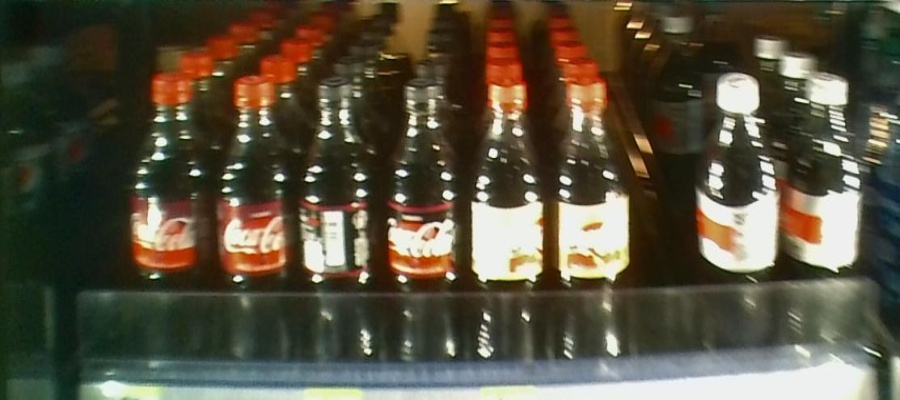bottle: (125, 64, 213, 374), (696, 70, 784, 357), (301, 77, 386, 372), (217, 74, 300, 374), (551, 74, 634, 374), (389, 74, 468, 370), (786, 69, 865, 358), (470, 73, 546, 368)
